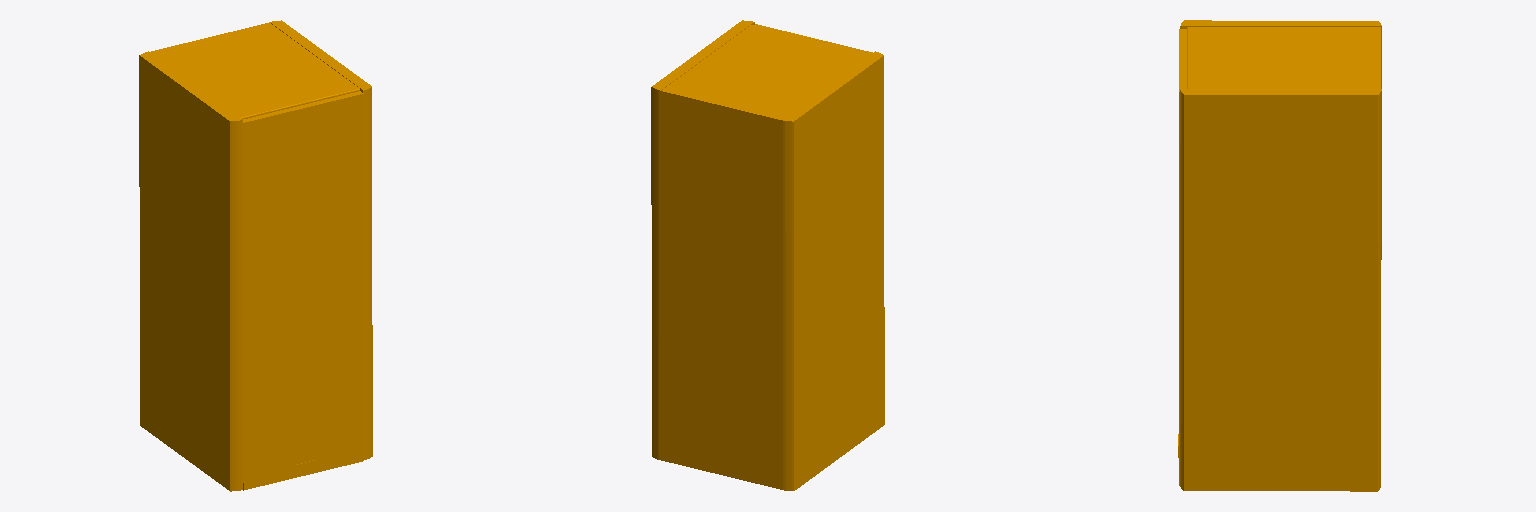
robot.urdf — none:
<robot name="none">
       <link name="none">
           <visual>
               <origin rpy="1.57 0 0" xyz="0 0 0" />
               <geometry>
                   <mesh filename="speaker3.obj" />
               </geometry>
           </visual>
          <collision>
              <geometry>
                  <box size="0.400772 1.000000 0.461608" />
              </geometry>
          </collision>

          <inertial>
            <mass value="0.0" />
            <inertia ixx="0.0" ixy="0.0" ixz="0.0" iyy="0.0" iyz="0.0" izz="0.0" />
          </inertial>
      </link>
  </robot>

--- Facts derived from the render (not from the file) ---
Views: 3 orthographic renders of the robot side by side, from view 1: azimuth 30°, elevation 25°; view 2: azimuth 150°, elevation 25°; view 3: azimuth 270°, elevation 25°.
Model none with 1 links and 0 joints (none), rooted at none, posed all joints at 0.
Links seen in each view (by area): view 1: none; view 2: none; view 3: none.
Boxes of the visible links, bbox=[...] form: none: bbox=[139, 20, 372, 491]; none: bbox=[651, 20, 884, 490]; none: bbox=[1178, 20, 1381, 491].
Size in the robot's own frame: 0.4008 by 0.4624 by 1 metres.
Meshes: 1 distinct files referenced, 1 mesh visuals loaded (1 OBJ).